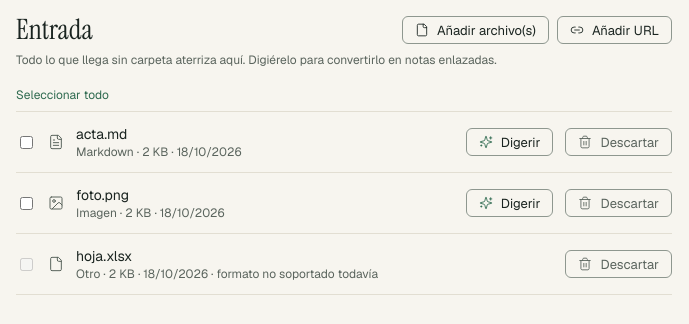
InboxView › Escape closes the area menu without digesting
This screenshot has width=689, height=324.
Step 1. Click the button with test id "digest-acta.md" → (510, 142), box [466,128,554,156]
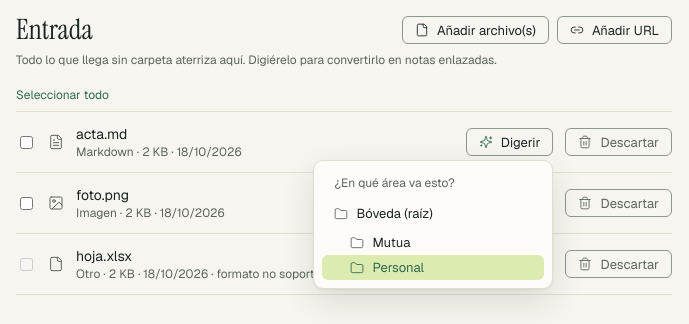
Step 2. Press Escape in the menu with test id "area-menu", box [314,160,554,289]
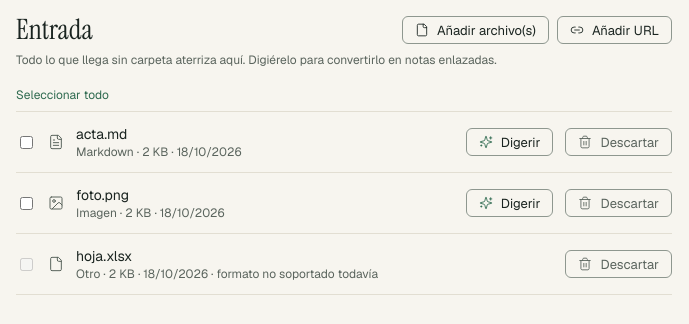
Now the menu with test id "area-menu" is gone
